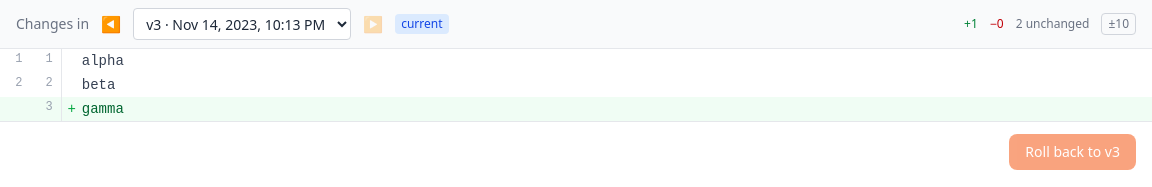
Test: VfsHistory › fetches each version once while stepping back and forth
The width and height of the screenshot is (1152, 187).
Expected: the text "gamma" is shown, 82,101 -> 124,117
What coordinates should you click on to do the following:
click the button named "Previous version"
I would click on:
 (111, 24)
Its box is 95,8 -> 127,40.
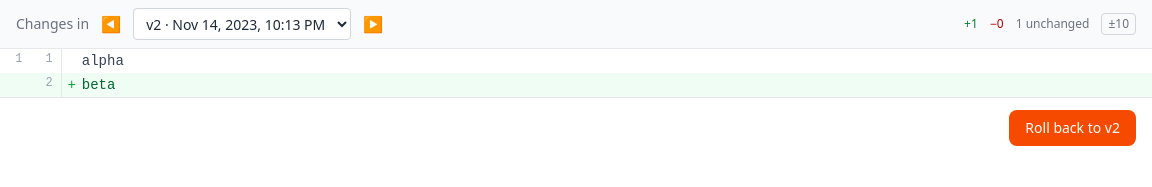
Expected: the dropdown named "Version" shows "v2 · Nov 14, 2023, 10:13 PM", 133,8 -> 351,40
Expected: the text "Changes in" is shown, 16,14 -> 89,34
What coordinates should you click on to do the following:
click the button named "Next version"
I would click on:
 (373, 24)
Its box is 357,8 -> 389,40.
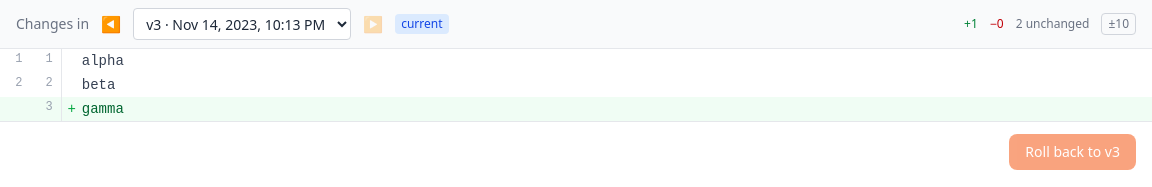
Now the text "gamma" is shown, box 82,101 -> 124,117
